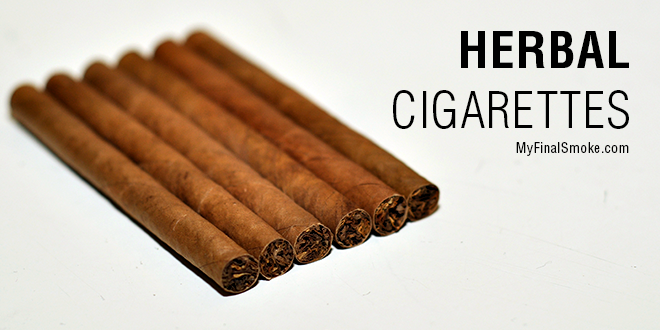cigarette: (10, 27, 446, 293)
